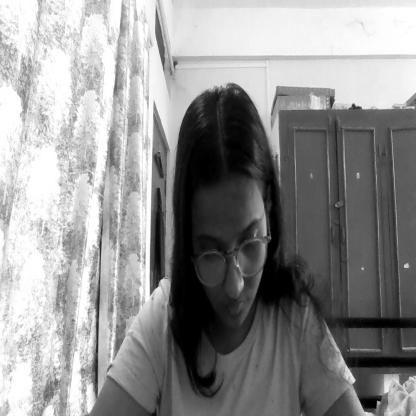Distracted: (178, 92, 275, 328)
